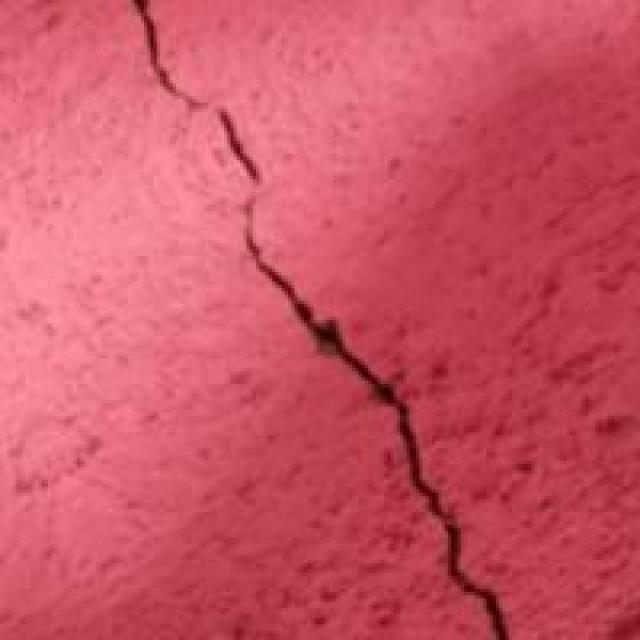SurfaceCrack: (126, 4, 532, 640)
